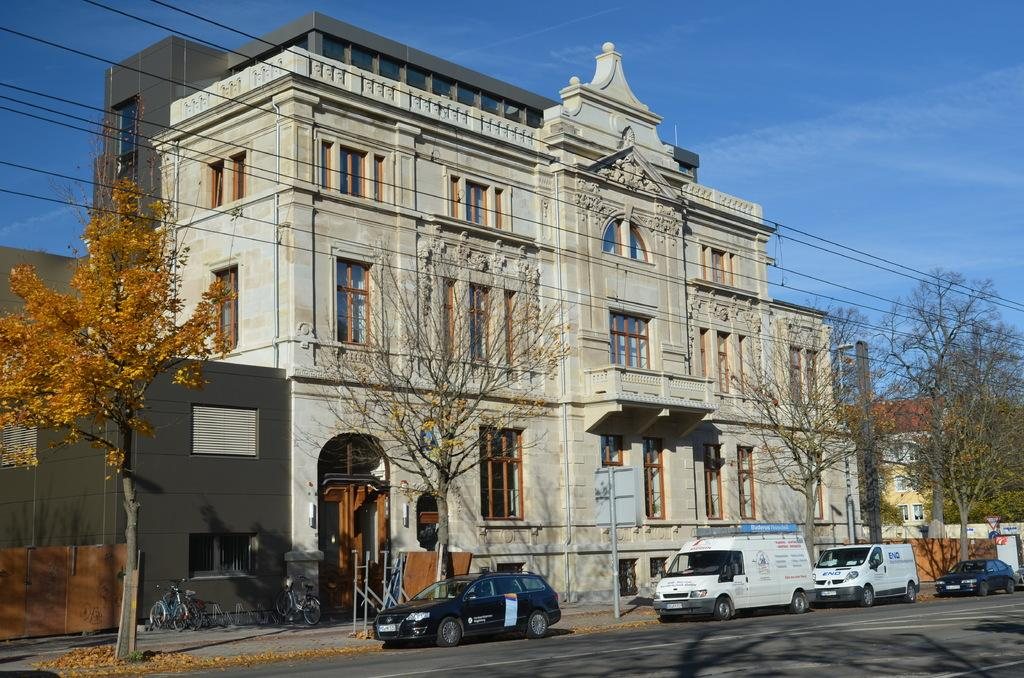vehicle: (374, 570, 562, 646), (654, 534, 815, 621), (809, 545, 922, 607), (935, 559, 1016, 597)
